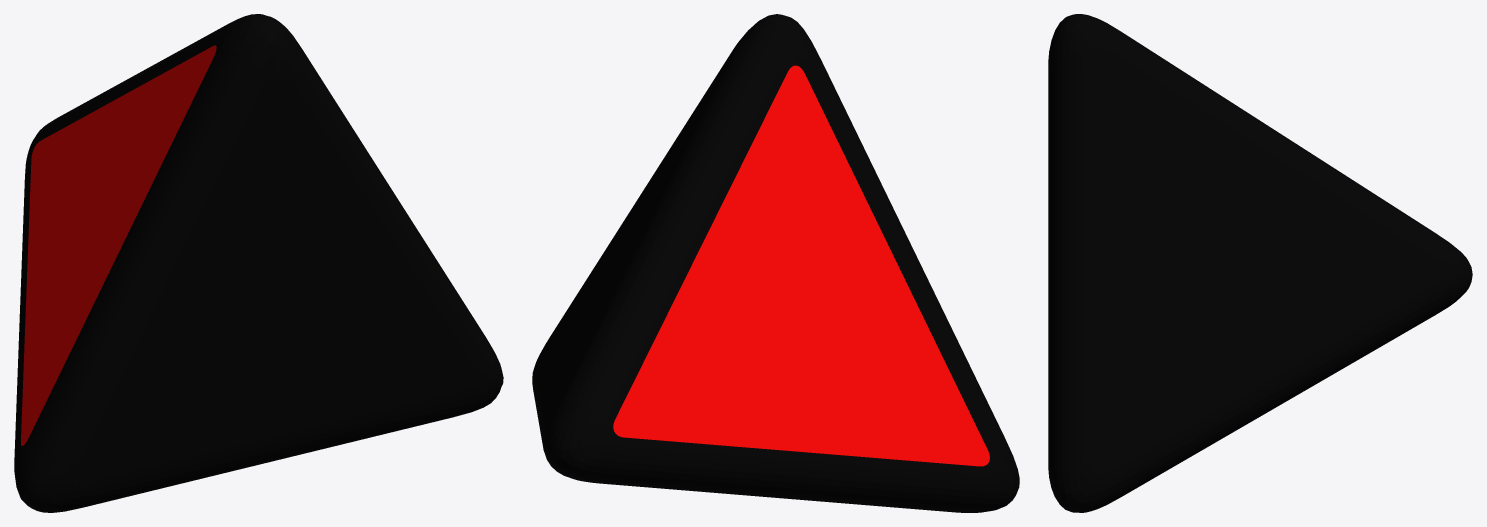
3 renders of one model, left to right at view 1: azimuth 30°, elevation 25°; view 2: azimuth 150°, elevation 25°; view 3: azimuth 270°, elevation 25°, orthographic. The views are drawn at different scales.
Parts seen in each view (by area): view 1: t_ry; view 2: t_ry; view 3: t_ry.
Part boxes in pixels (bbox=[...]): t_ry: bbox=[14, 14, 503, 512]; t_ry: bbox=[532, 14, 1019, 512]; t_ry: bbox=[1048, 14, 1472, 512].
Bounding box in the file's own units: 135 × 121 × 115.
